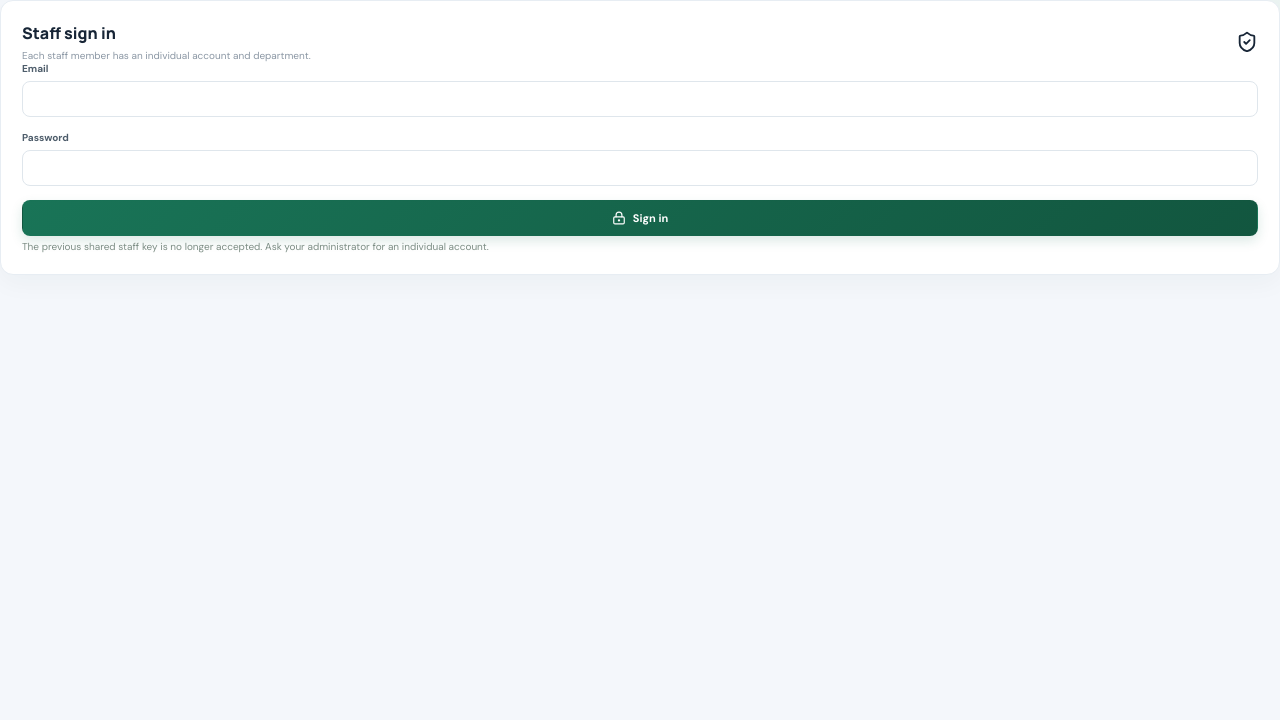
individual staff task centre › signs in an individual staff member before enabling task actions
This screenshot has width=1280, height=720.
Later steps or results of the test are not shown.
In the field labelled "Email": (640, 99) [22,81,1258,117], type "tech@campus.test"
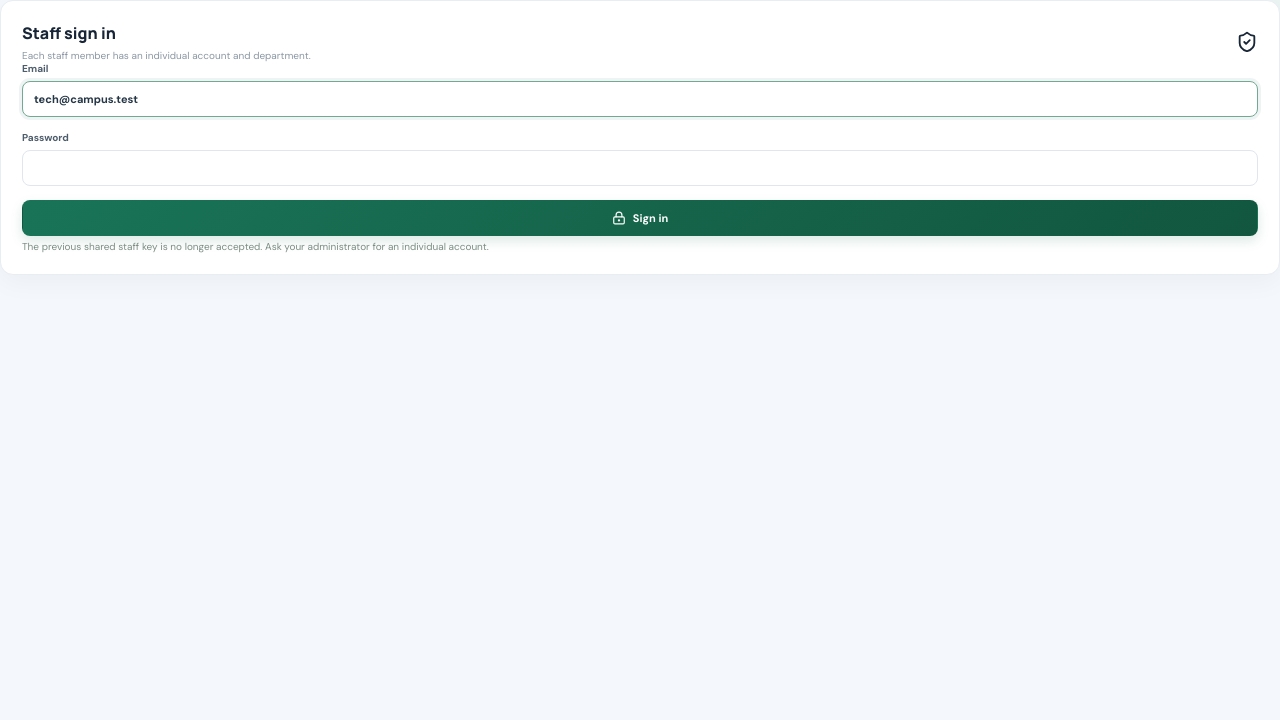
In the password field labelled "Password": (640, 168) [22,150,1258,186], type "secure-staff-password"
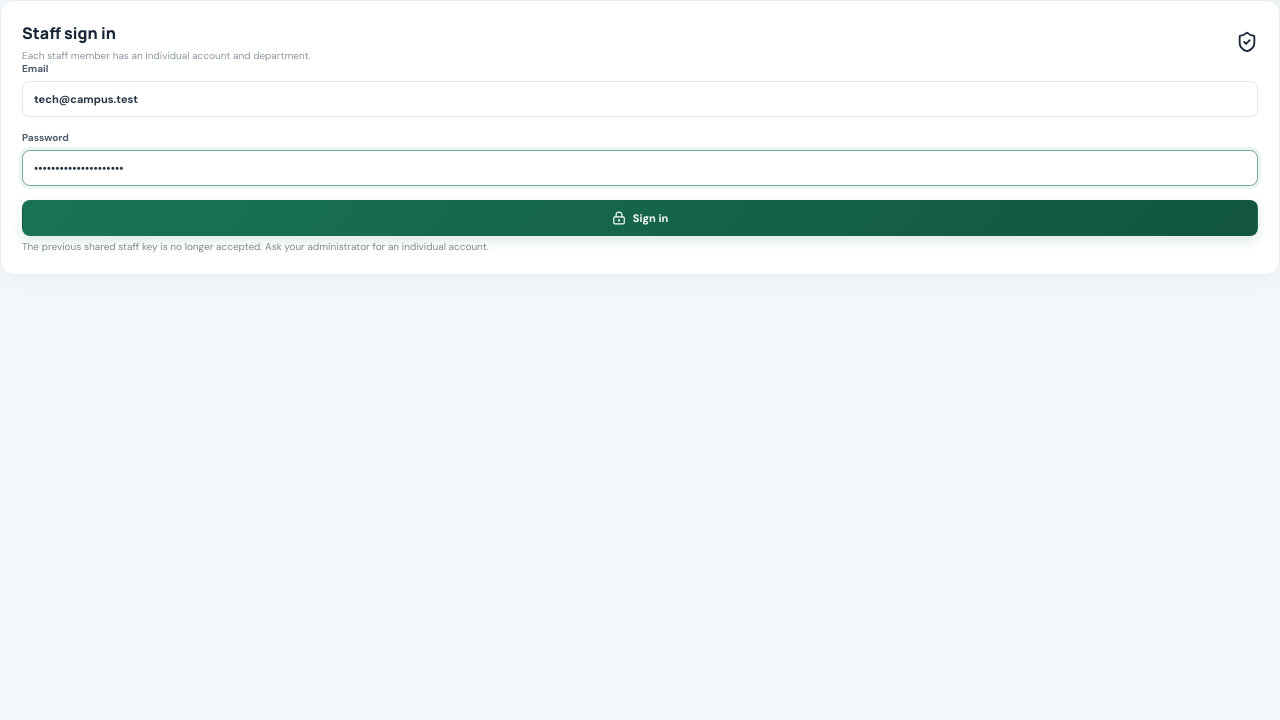
Click the button "Sign in": (640, 218) [22,200,1258,236]
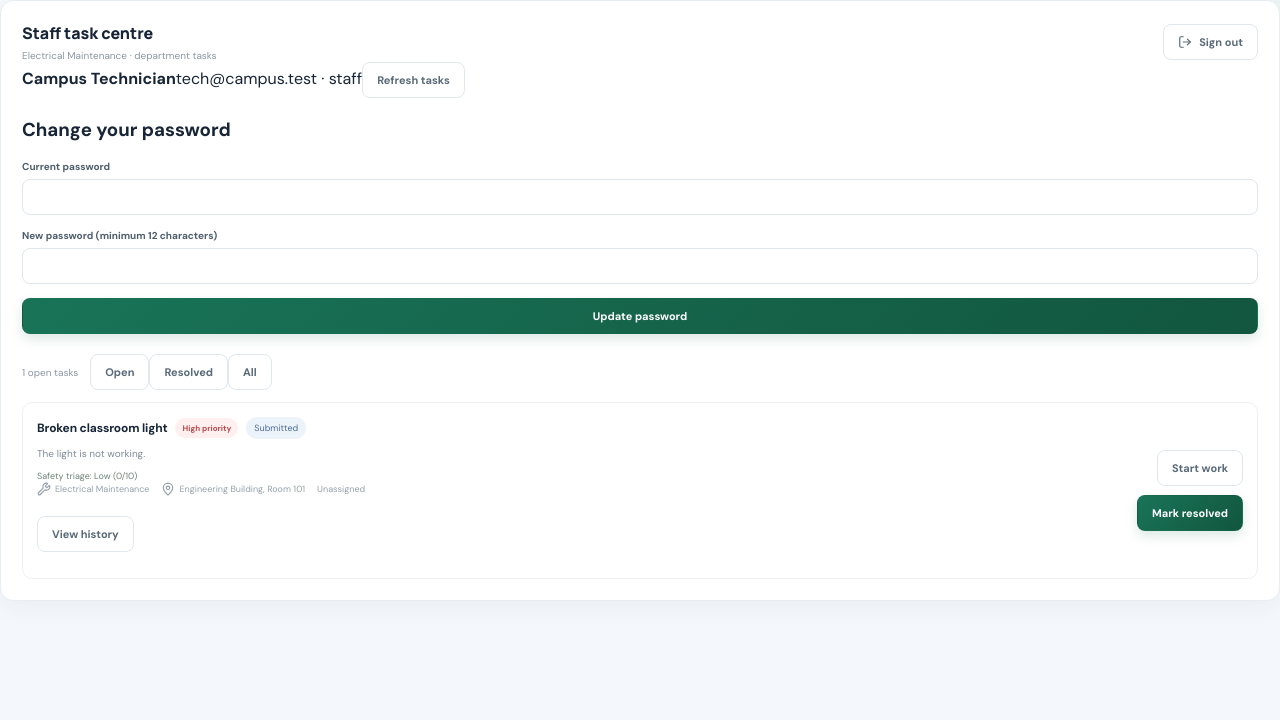
Result: the text "Campus Technician" is shown at [22,68,176,89]
Result: the button "Start work" is enabled at [1157,450,1243,486]
